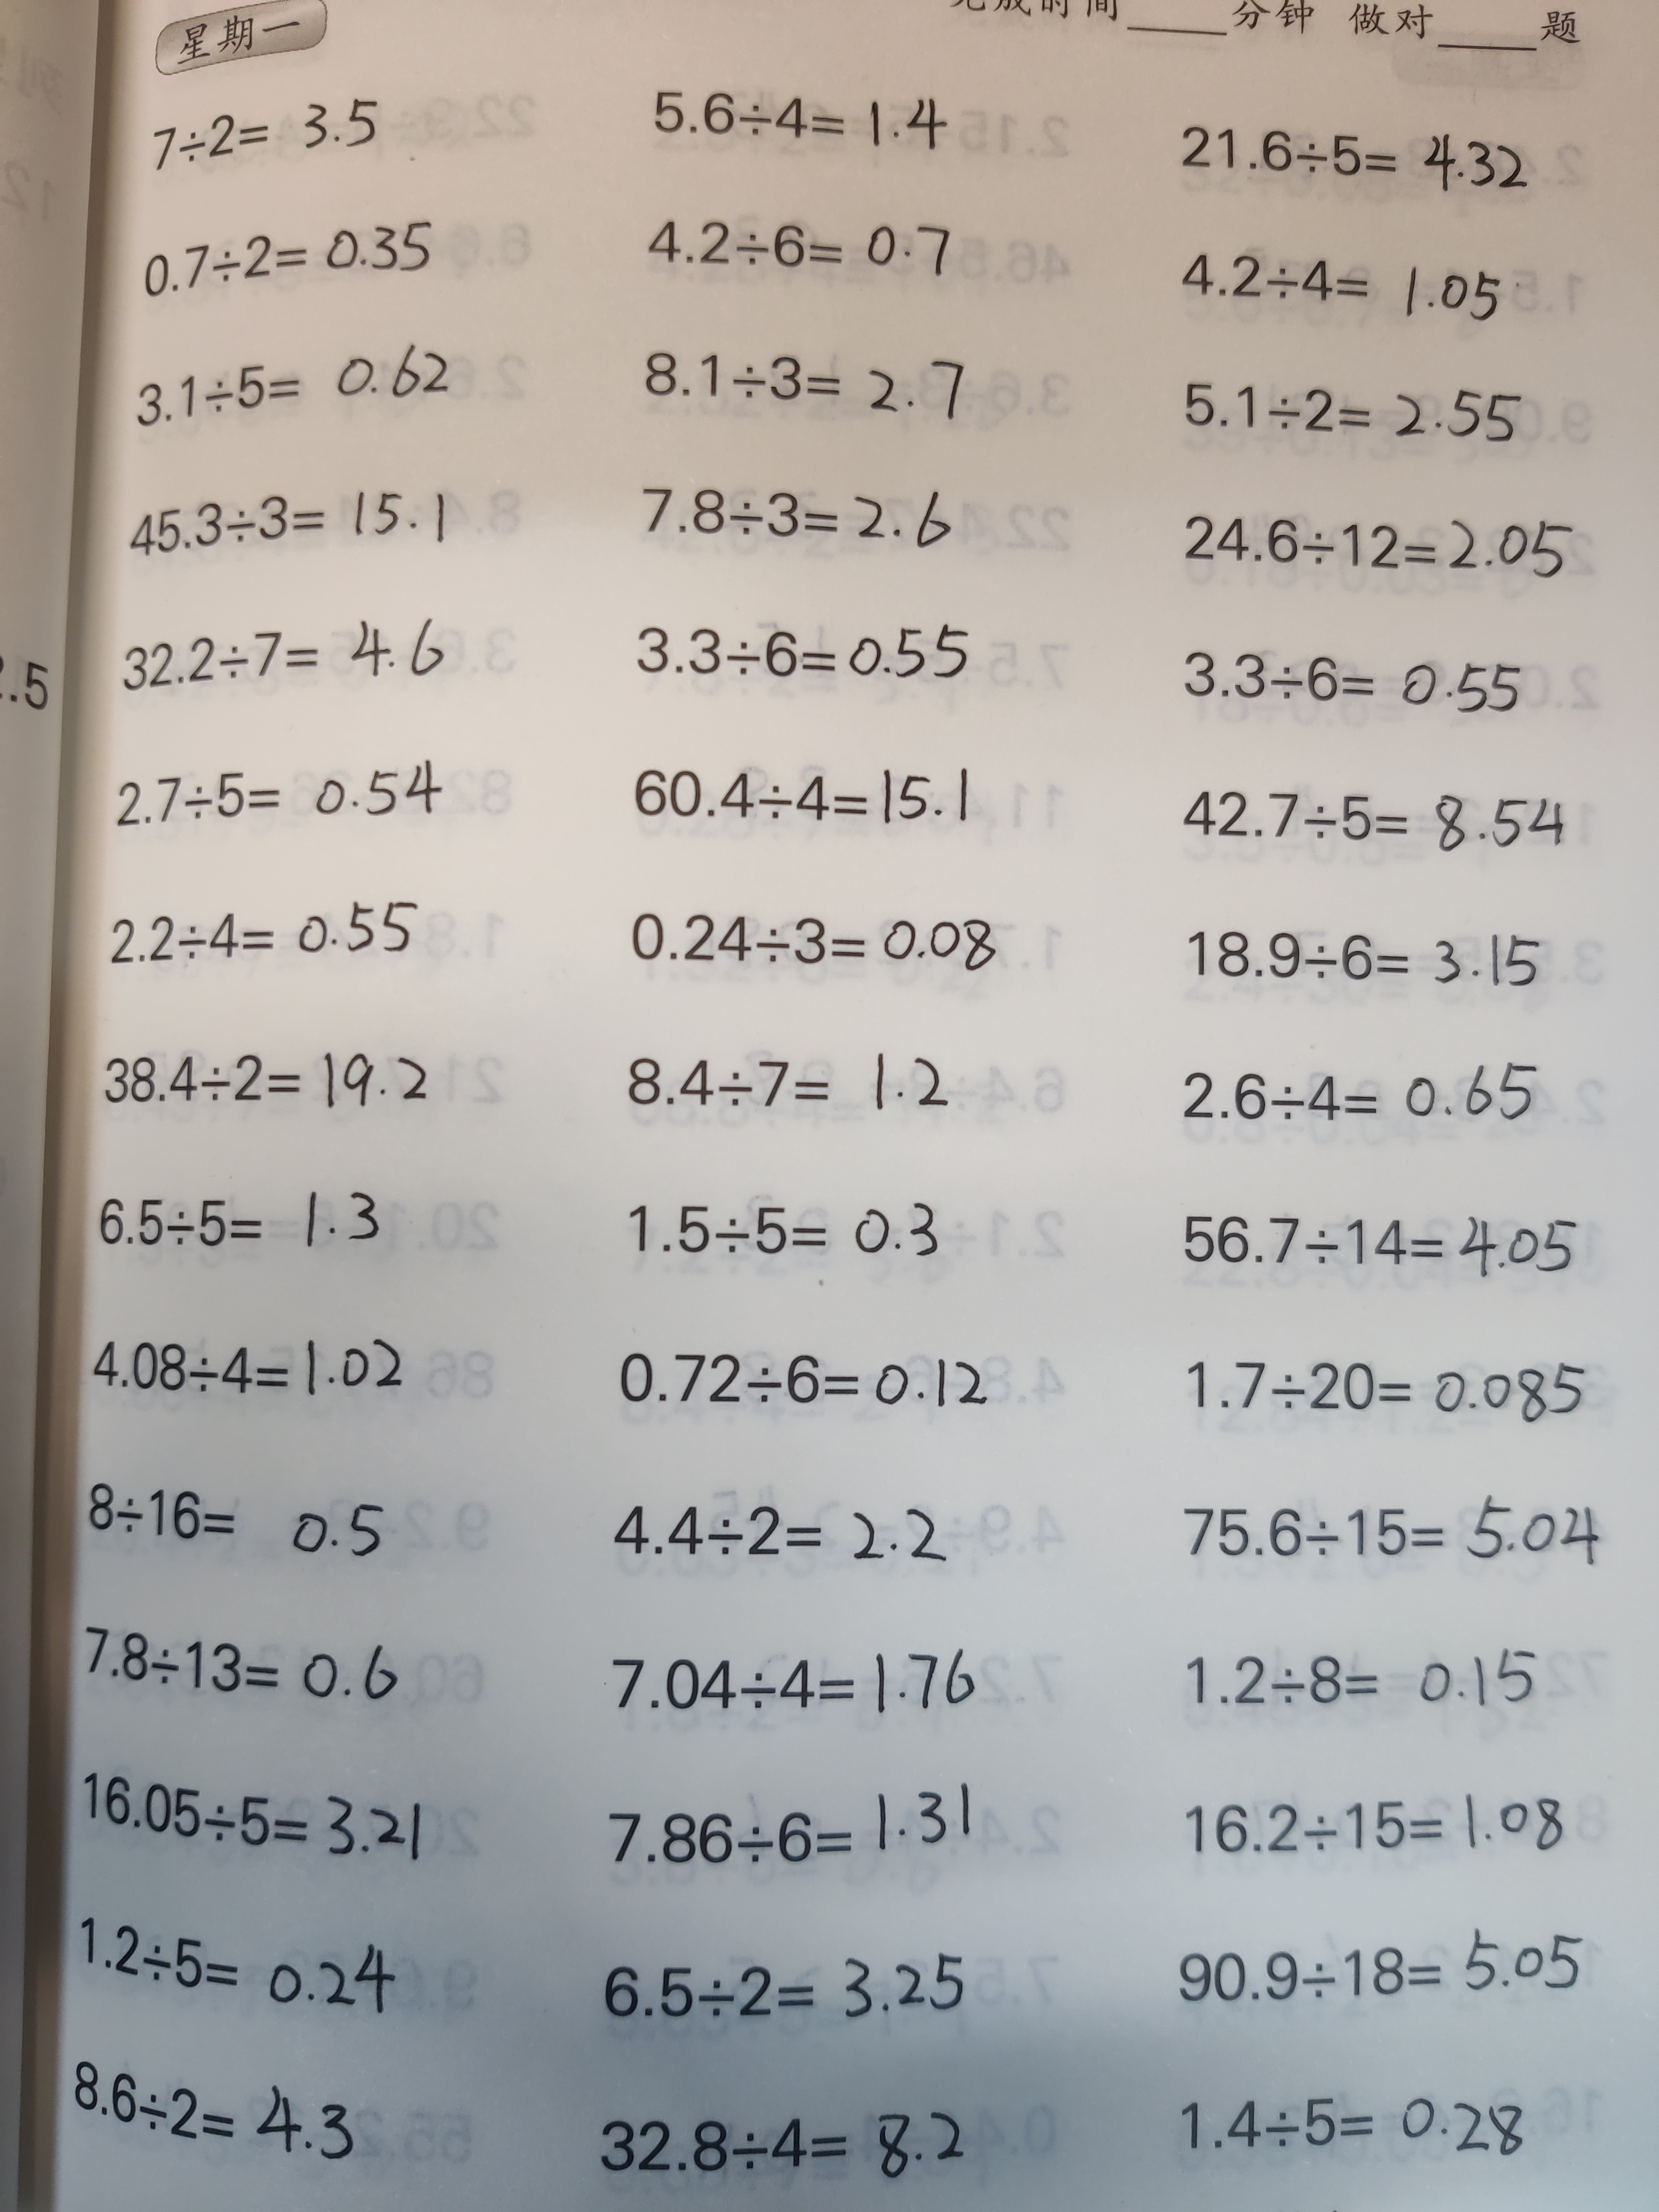equation: (582, 1770, 990, 1883), (1171, 1770, 1572, 1883), (592, 1630, 997, 1740), (591, 2081, 979, 2195), (66, 1897, 408, 2024), (606, 1325, 1018, 1428), (68, 1763, 448, 1872), (61, 2048, 385, 2175), (1180, 495, 1584, 596), (1168, 1480, 1607, 1573), (1168, 230, 1530, 341), (1169, 101, 1544, 207), (1175, 779, 1572, 878), (1168, 1346, 1603, 1435), (1161, 1200, 1586, 1291), (1171, 1045, 1551, 1146), (594, 1940, 979, 2040), (636, 334, 990, 442), (612, 897, 1011, 991), (1164, 911, 1560, 1005), (1171, 366, 1537, 467), (1171, 634, 1537, 735), (1161, 1923, 1584, 2010), (66, 1461, 408, 1568), (1168, 2069, 1528, 2168), (591, 1049, 971, 1143), (75, 1317, 434, 1416), (99, 1029, 464, 1125), (73, 1611, 415, 1712), (1168, 1644, 1554, 1733), (619, 601, 972, 697), (610, 1181, 965, 1275), (606, 1487, 953, 1581), (106, 613, 460, 704), (636, 752, 992, 841), (645, 207, 972, 303), (87, 1183, 411, 1278), (141, 209, 446, 310), (106, 475, 458, 563), (638, 75, 962, 169), (120, 348, 472, 432), (99, 894, 436, 981), (633, 481, 962, 564), (99, 759, 448, 836), (136, 82, 403, 171)
